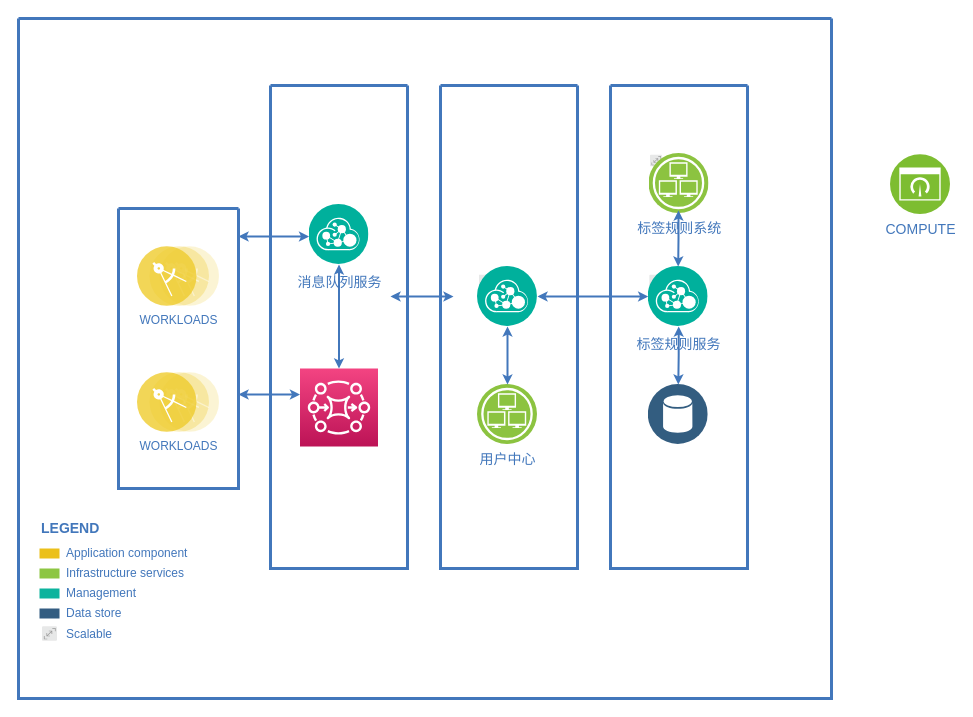
The diagram is 973 pixels wide and 717 high, and some of its shapes have lost their labels. The shapes that lost their labels are listed below. From the top down, each one's centre as x and y in pixels, then its label:
At (x=507, y=296): "打标签服务".
At (x=338, y=407): "消息队列".
At (x=678, y=414): "SOFTWARE DEFINED STORAGE".
